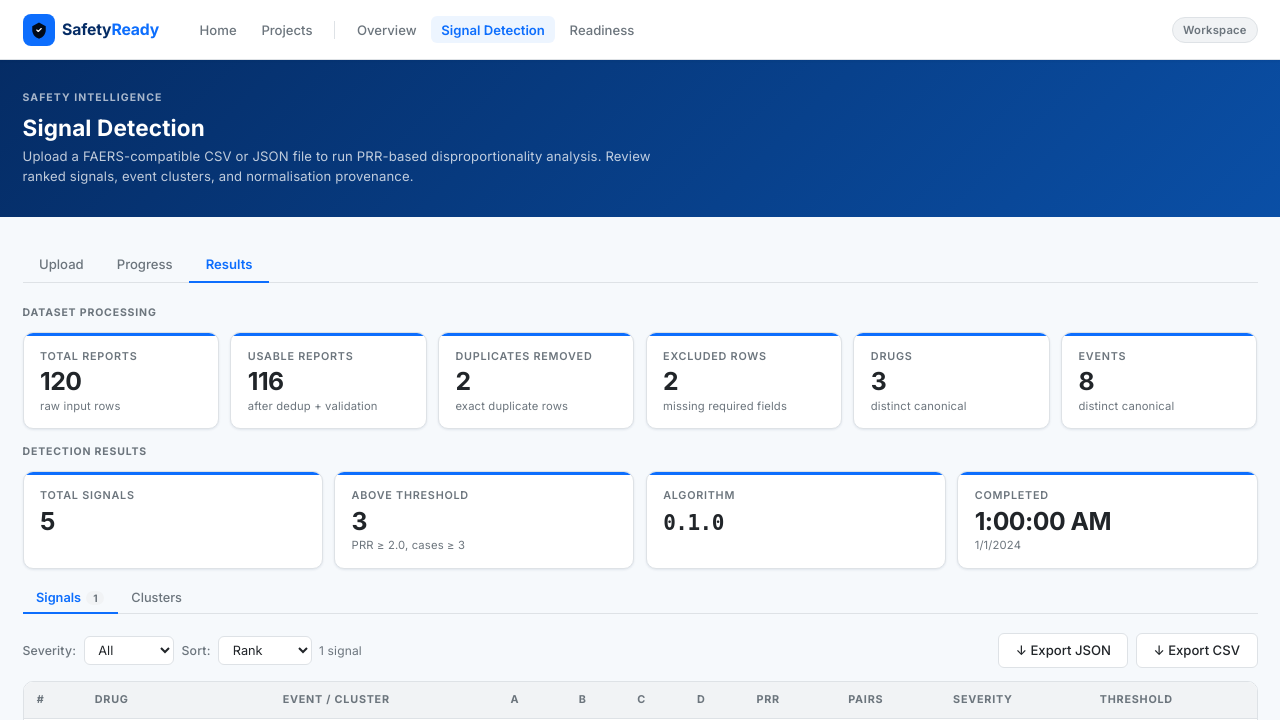
Test: Signal detail drawer › opens signal detail drawer on row click
Click the button "Results": (229, 265) left=189, top=247, right=269, bottom=283
(page scrolled)
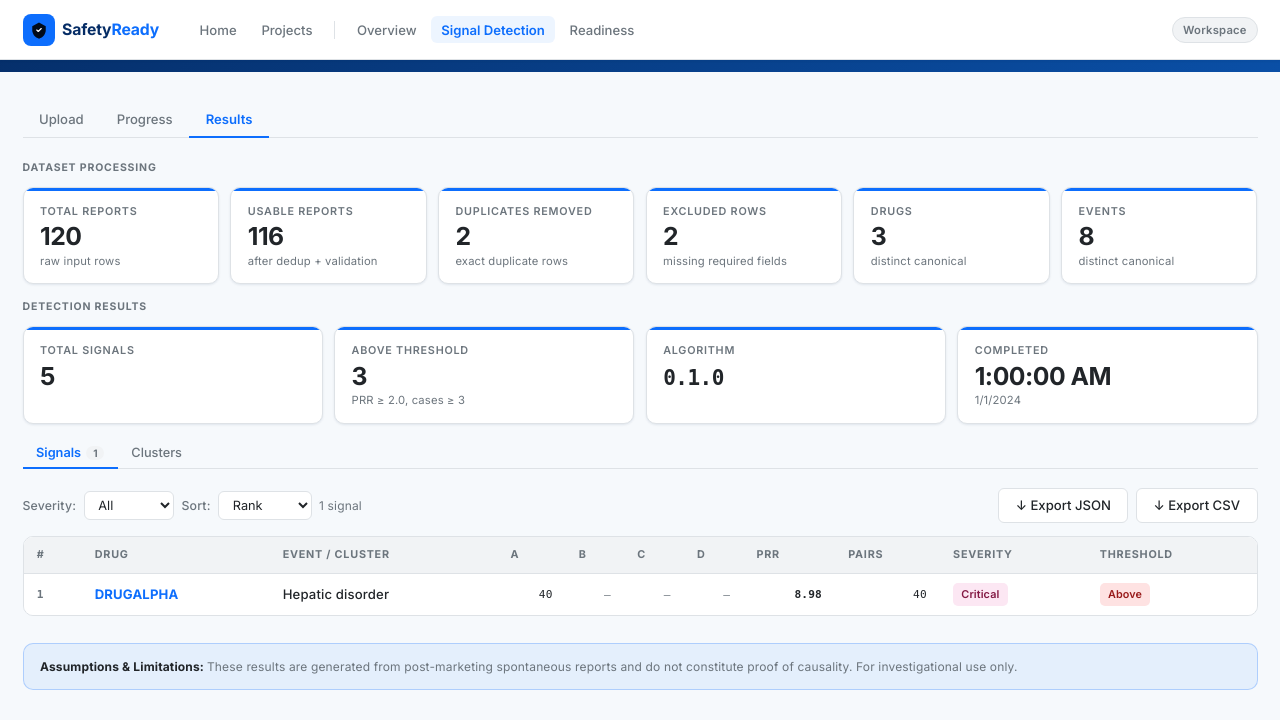
expect the text "DRUGALPHA" is shown: met, box left=95, top=586, right=178, bottom=602
Click the row named "Signal DRUGALPHA": (137, 594) left=24, top=573, right=1256, bottom=616
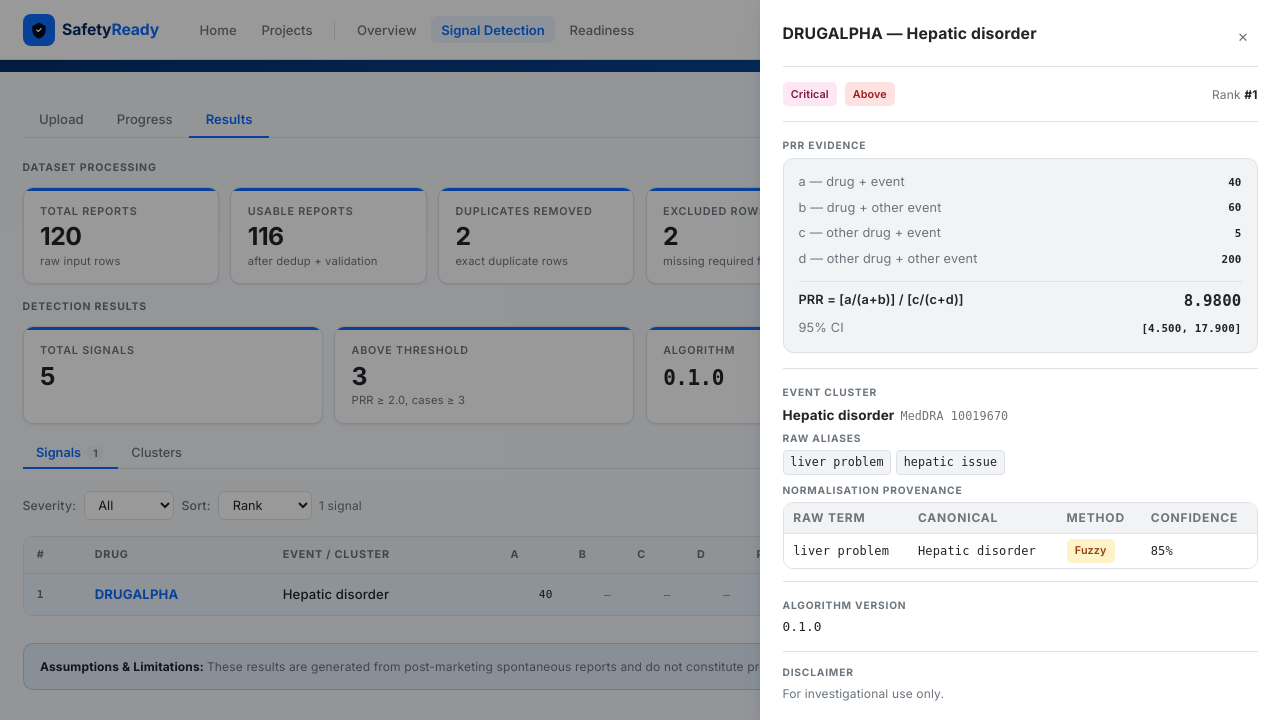
expect the dialog "DRUGALPHA" is shown: met, box left=760, top=0, right=1279, bottom=719
